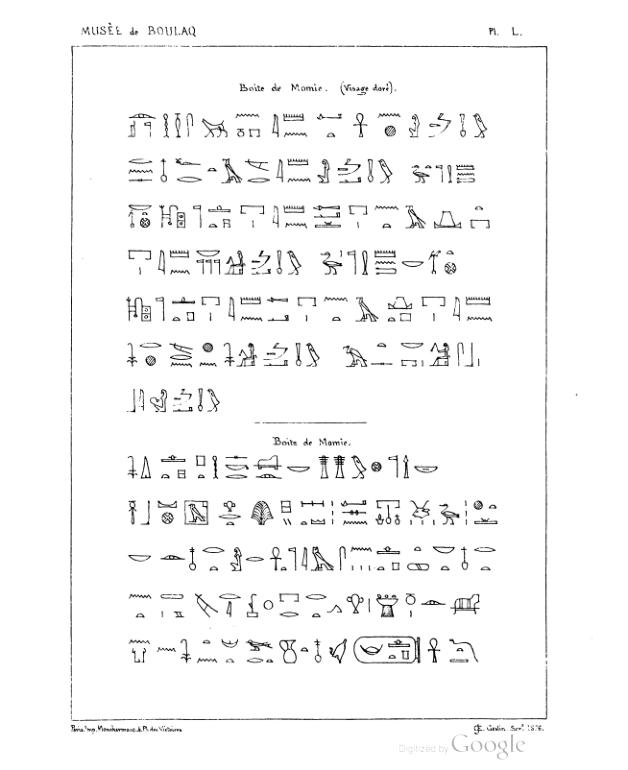circle: (352, 634, 425, 667)
